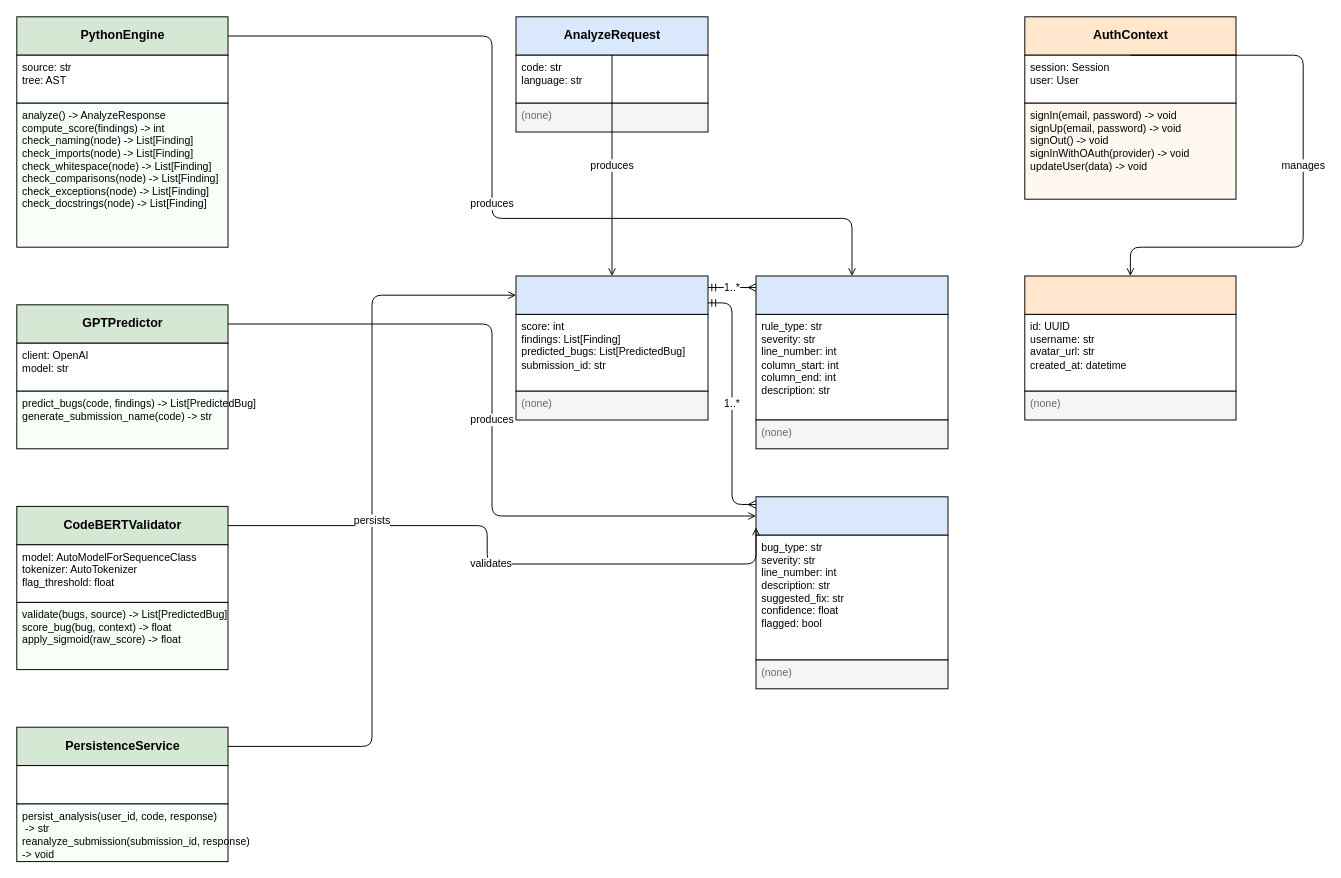
This 1341x878 diagram has some shape labels left out. Each missing label, with the box of its shape:
AnalyzeResponse: (515, 275, 708, 314)
db: SupabaseClient: (16, 765, 228, 804)
Finding: (755, 275, 948, 314)
PredictedBug: (755, 496, 948, 535)
Profile: (1024, 275, 1236, 314)
